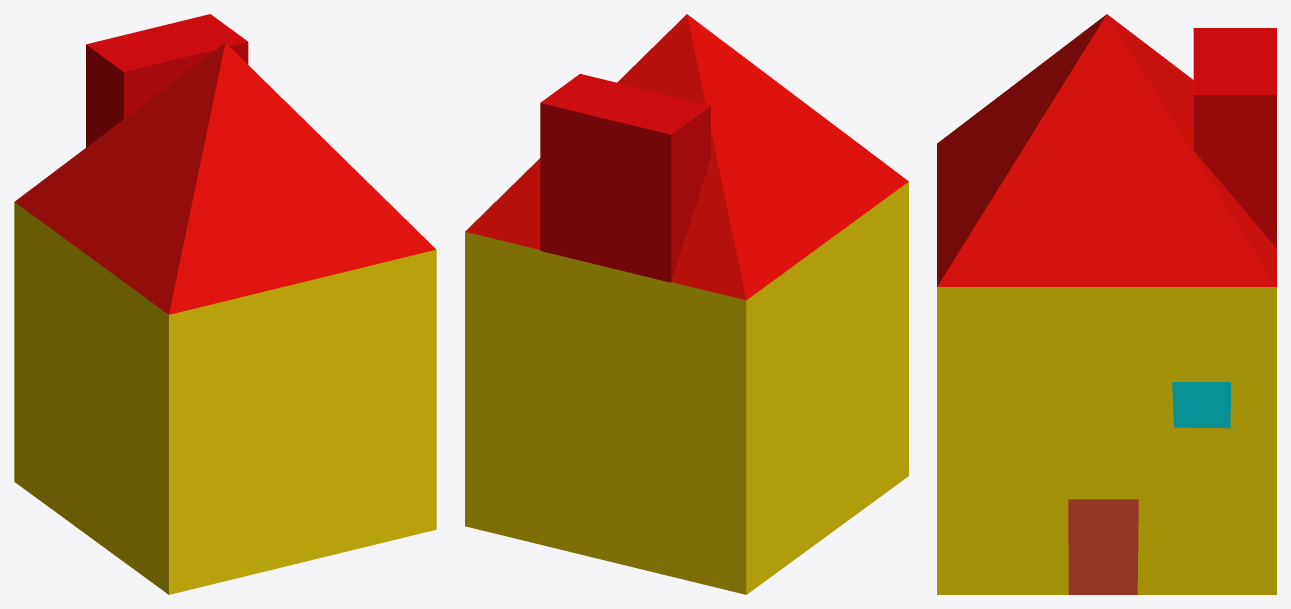
The model's file is House.glb.
The picture shows the model from 3 angles, left to right: view 1: azimuth 30°, elevation 25°; view 2: azimuth 150°, elevation 25°; view 3: azimuth 270°, elevation 25°; orthographic projection. The views are drawn at different scales.
Parts seen in each view (by area): view 1: Base, Roof, Chimney; view 2: Base, Roof, Chimney; view 3: Base, Roof, Chimney.
Boxes of the visible parts, left/top/right/bottom form: Base: left=14, top=202, right=436, bottom=594; Roof: left=14, top=43, right=435, bottom=314; Chimney: left=86, top=14, right=248, bottom=147; Base: left=465, top=181, right=908, bottom=594; Roof: left=465, top=14, right=908, bottom=300; Chimney: left=540, top=74, right=710, bottom=282; Base: left=937, top=287, right=1276, bottom=594; Roof: left=937, top=14, right=1276, bottom=286; Chimney: left=1193, top=28, right=1276, bottom=248.
Size of the model in its own units: 2 by 3.31 by 2.
